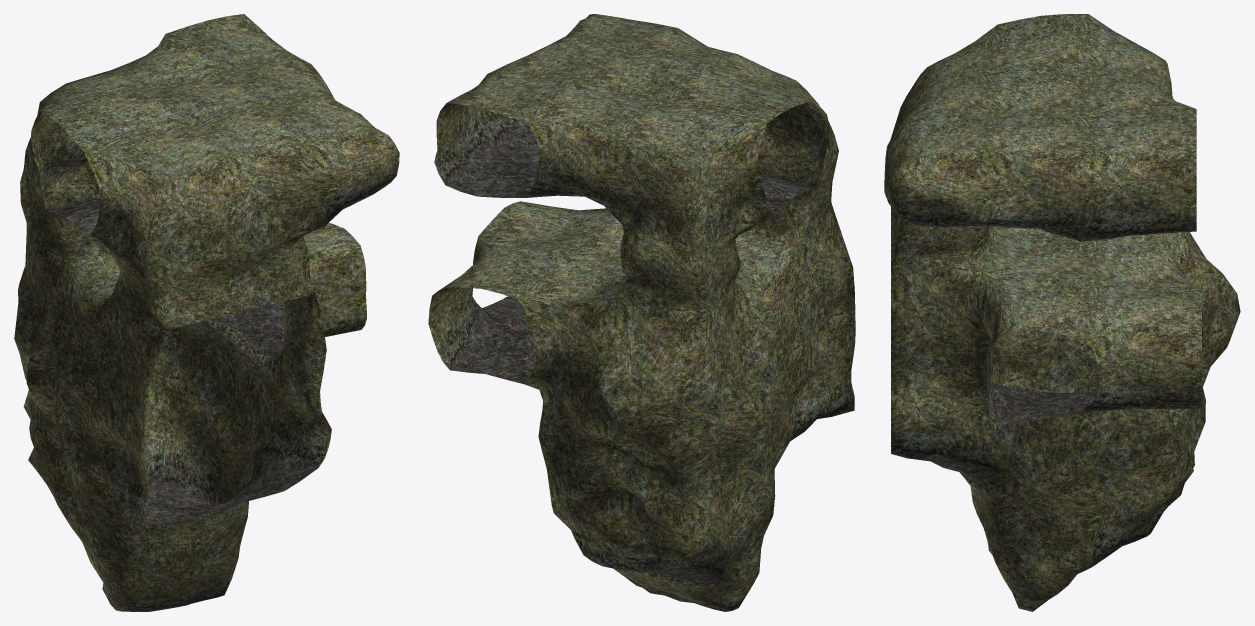
Rendered from thm_all_cave_s02_damprock_r5_mesh_r5.fbx.
3 views of the same model, side by side, from view 1: azimuth 30°, elevation 25°; view 2: azimuth 150°, elevation 25°; view 3: azimuth 270°, elevation 25° (orthographic). The views are drawn at different scales.
Parts seen in each view (by area): view 1: mesh_node; view 2: mesh_node; view 3: mesh_node.
Part boxes in pixels (<box>): mesh_node: <box>14,14,399,611</box>; mesh_node: <box>428,14,855,611</box>; mesh_node: <box>884,14,1240,611</box>.
Size of the model in its own units: 34.53 by 59.24 by 36.4.
